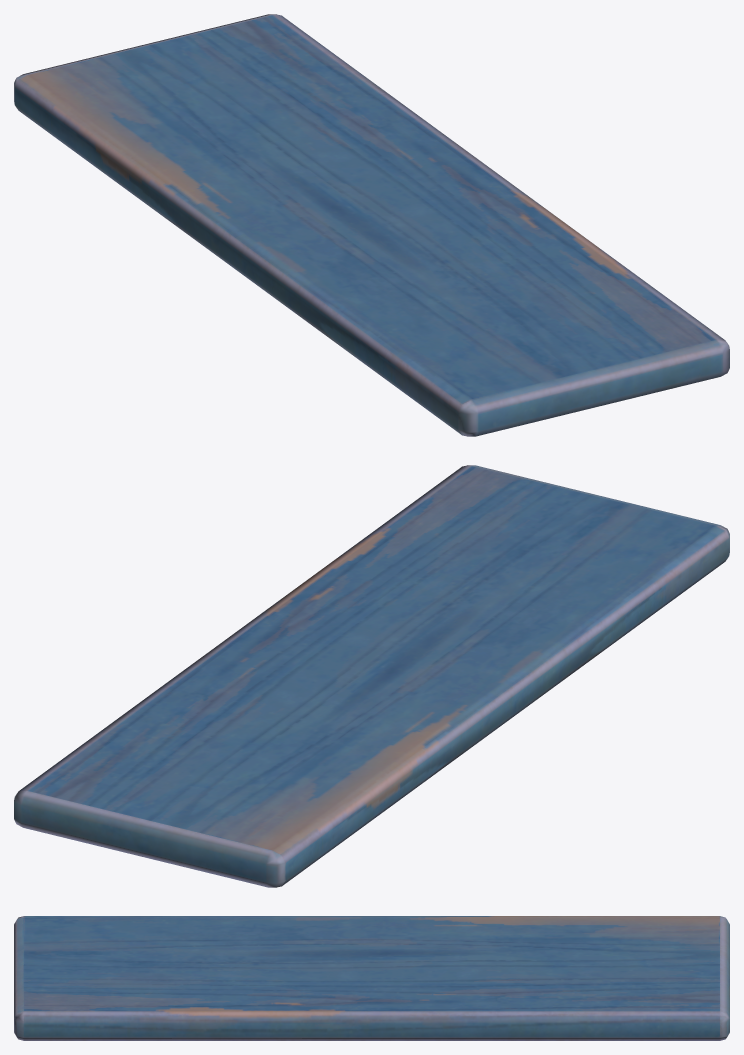
Rendered from SM_Shelf.fbx.
3 renders of one model, top to bottom at view 1: azimuth 30°, elevation 25°; view 2: azimuth 150°, elevation 25°; view 3: azimuth 270°, elevation 25°, orthographic. The views are drawn at different scales.
Parts seen in each view (by area): view 1: SM_Shelf_LOD0; view 2: SM_Shelf_LOD0; view 3: SM_Shelf_LOD0.
Part boxes in pixels (left/top/right/bottom): SM_Shelf_LOD0: left=14, top=14, right=729, bottom=436; SM_Shelf_LOD0: left=14, top=465, right=729, bottom=887; SM_Shelf_LOD0: left=14, top=916, right=729, bottom=1040.
Bounding box in the file's own units: 28.26 × 82.54 × 3.61.
Materials: 1 (1 with a texture image).
